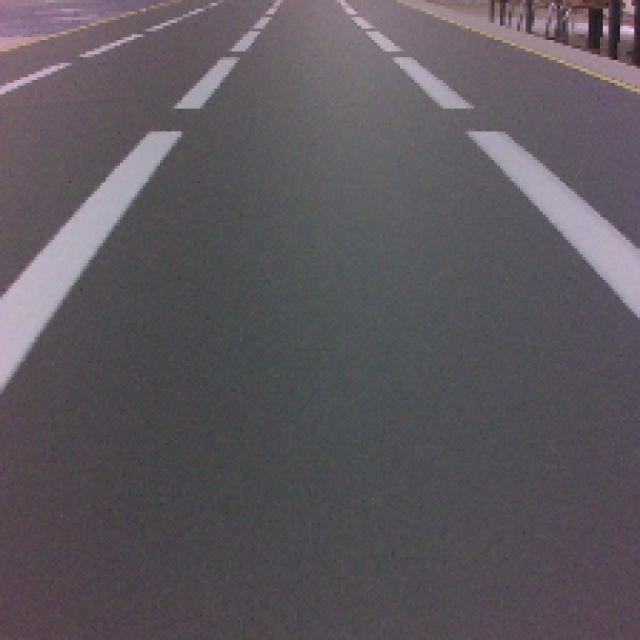Road: (4, 141, 640, 394)
